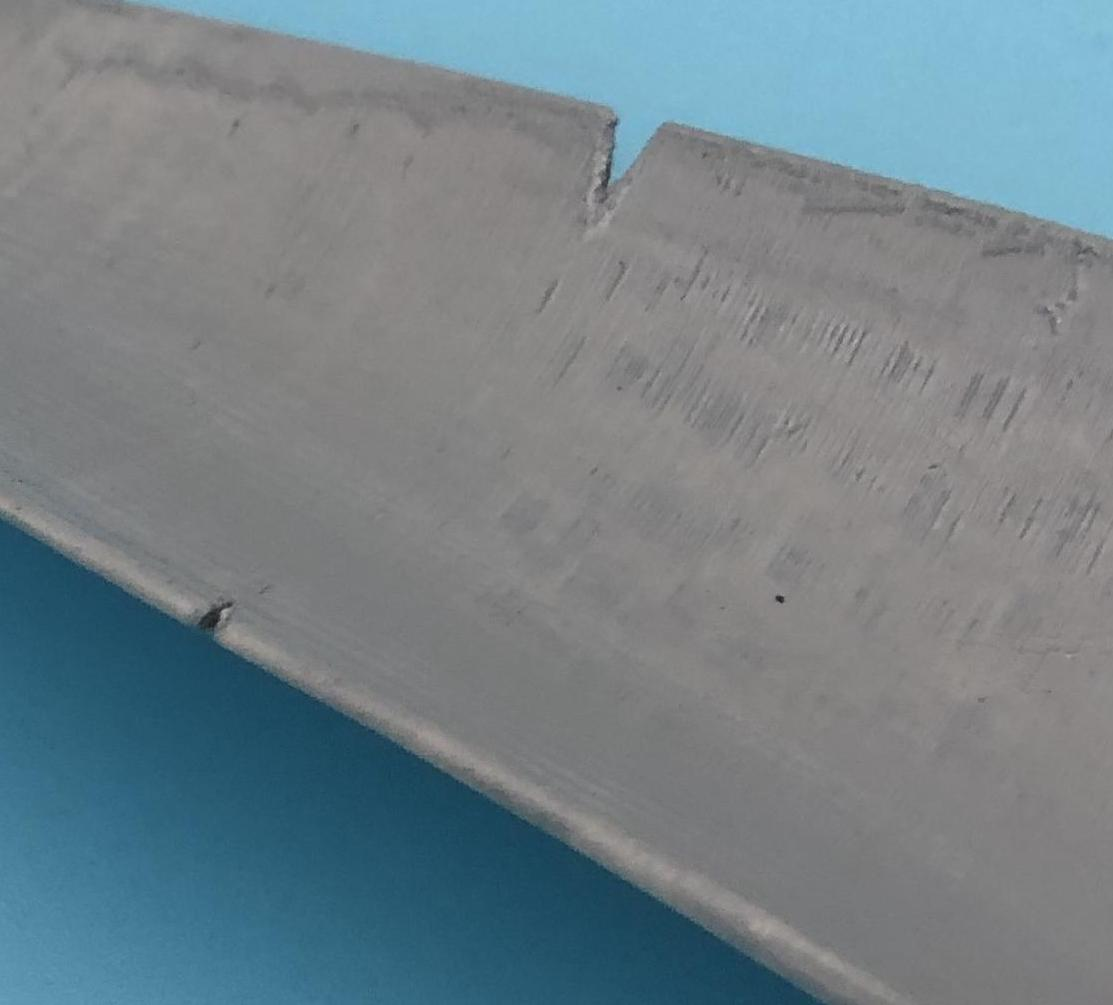groove: (577, 102, 670, 231), (185, 593, 246, 650)
